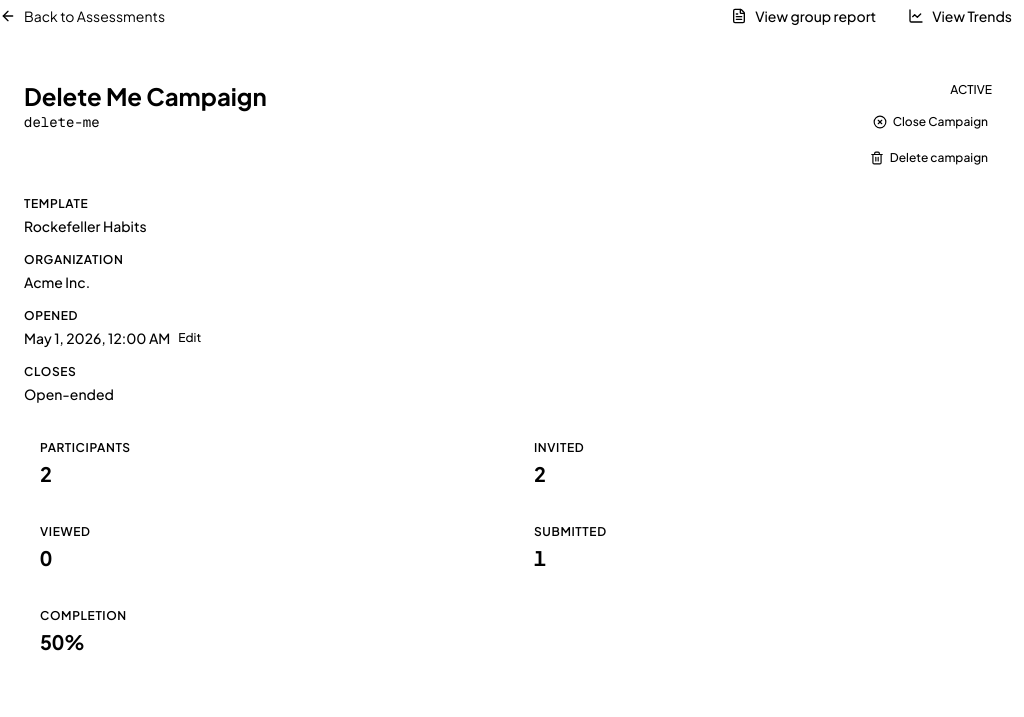
Test: CampaignDetail — Delete campaign dialog › opens the confirm dialog when Delete button is clicked
Click the button with test id "campaign-delete-btn" at (929, 158), box [858,144,1000,172]
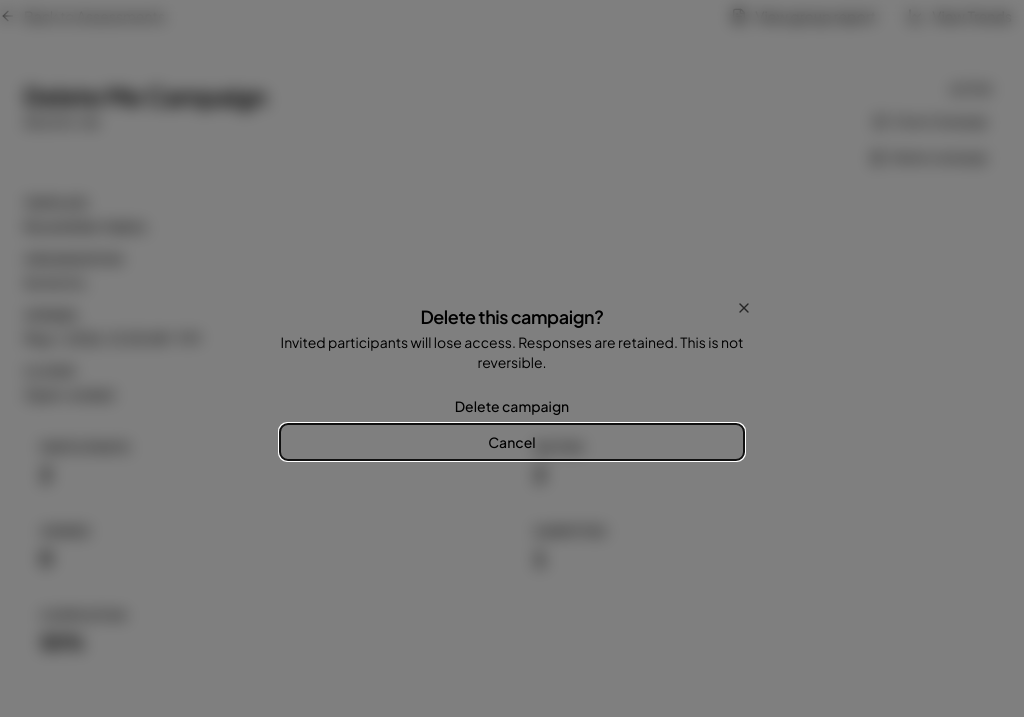
Check: the dialog with test id "campaign-delete-dialog" is shown, box [256,284,768,484]
Check: the text "Responses are retained" is shown, box [281,333,678,351]
